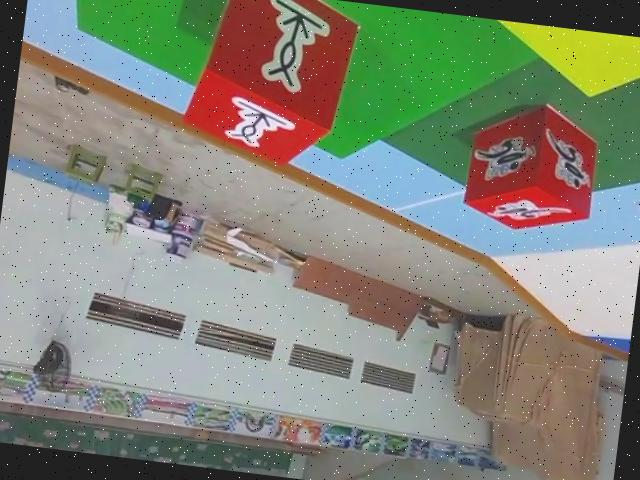R1: (460, 95, 611, 246)
R2 Real: (174, 0, 359, 176)
